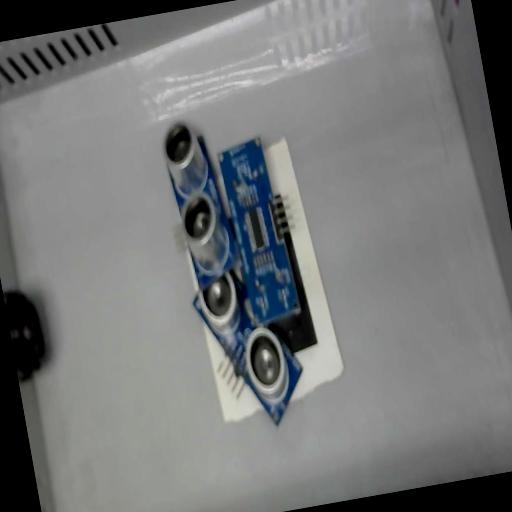ultrasonic_hc-sr04: (187, 260, 313, 439), (214, 130, 312, 331), (158, 116, 243, 294)
